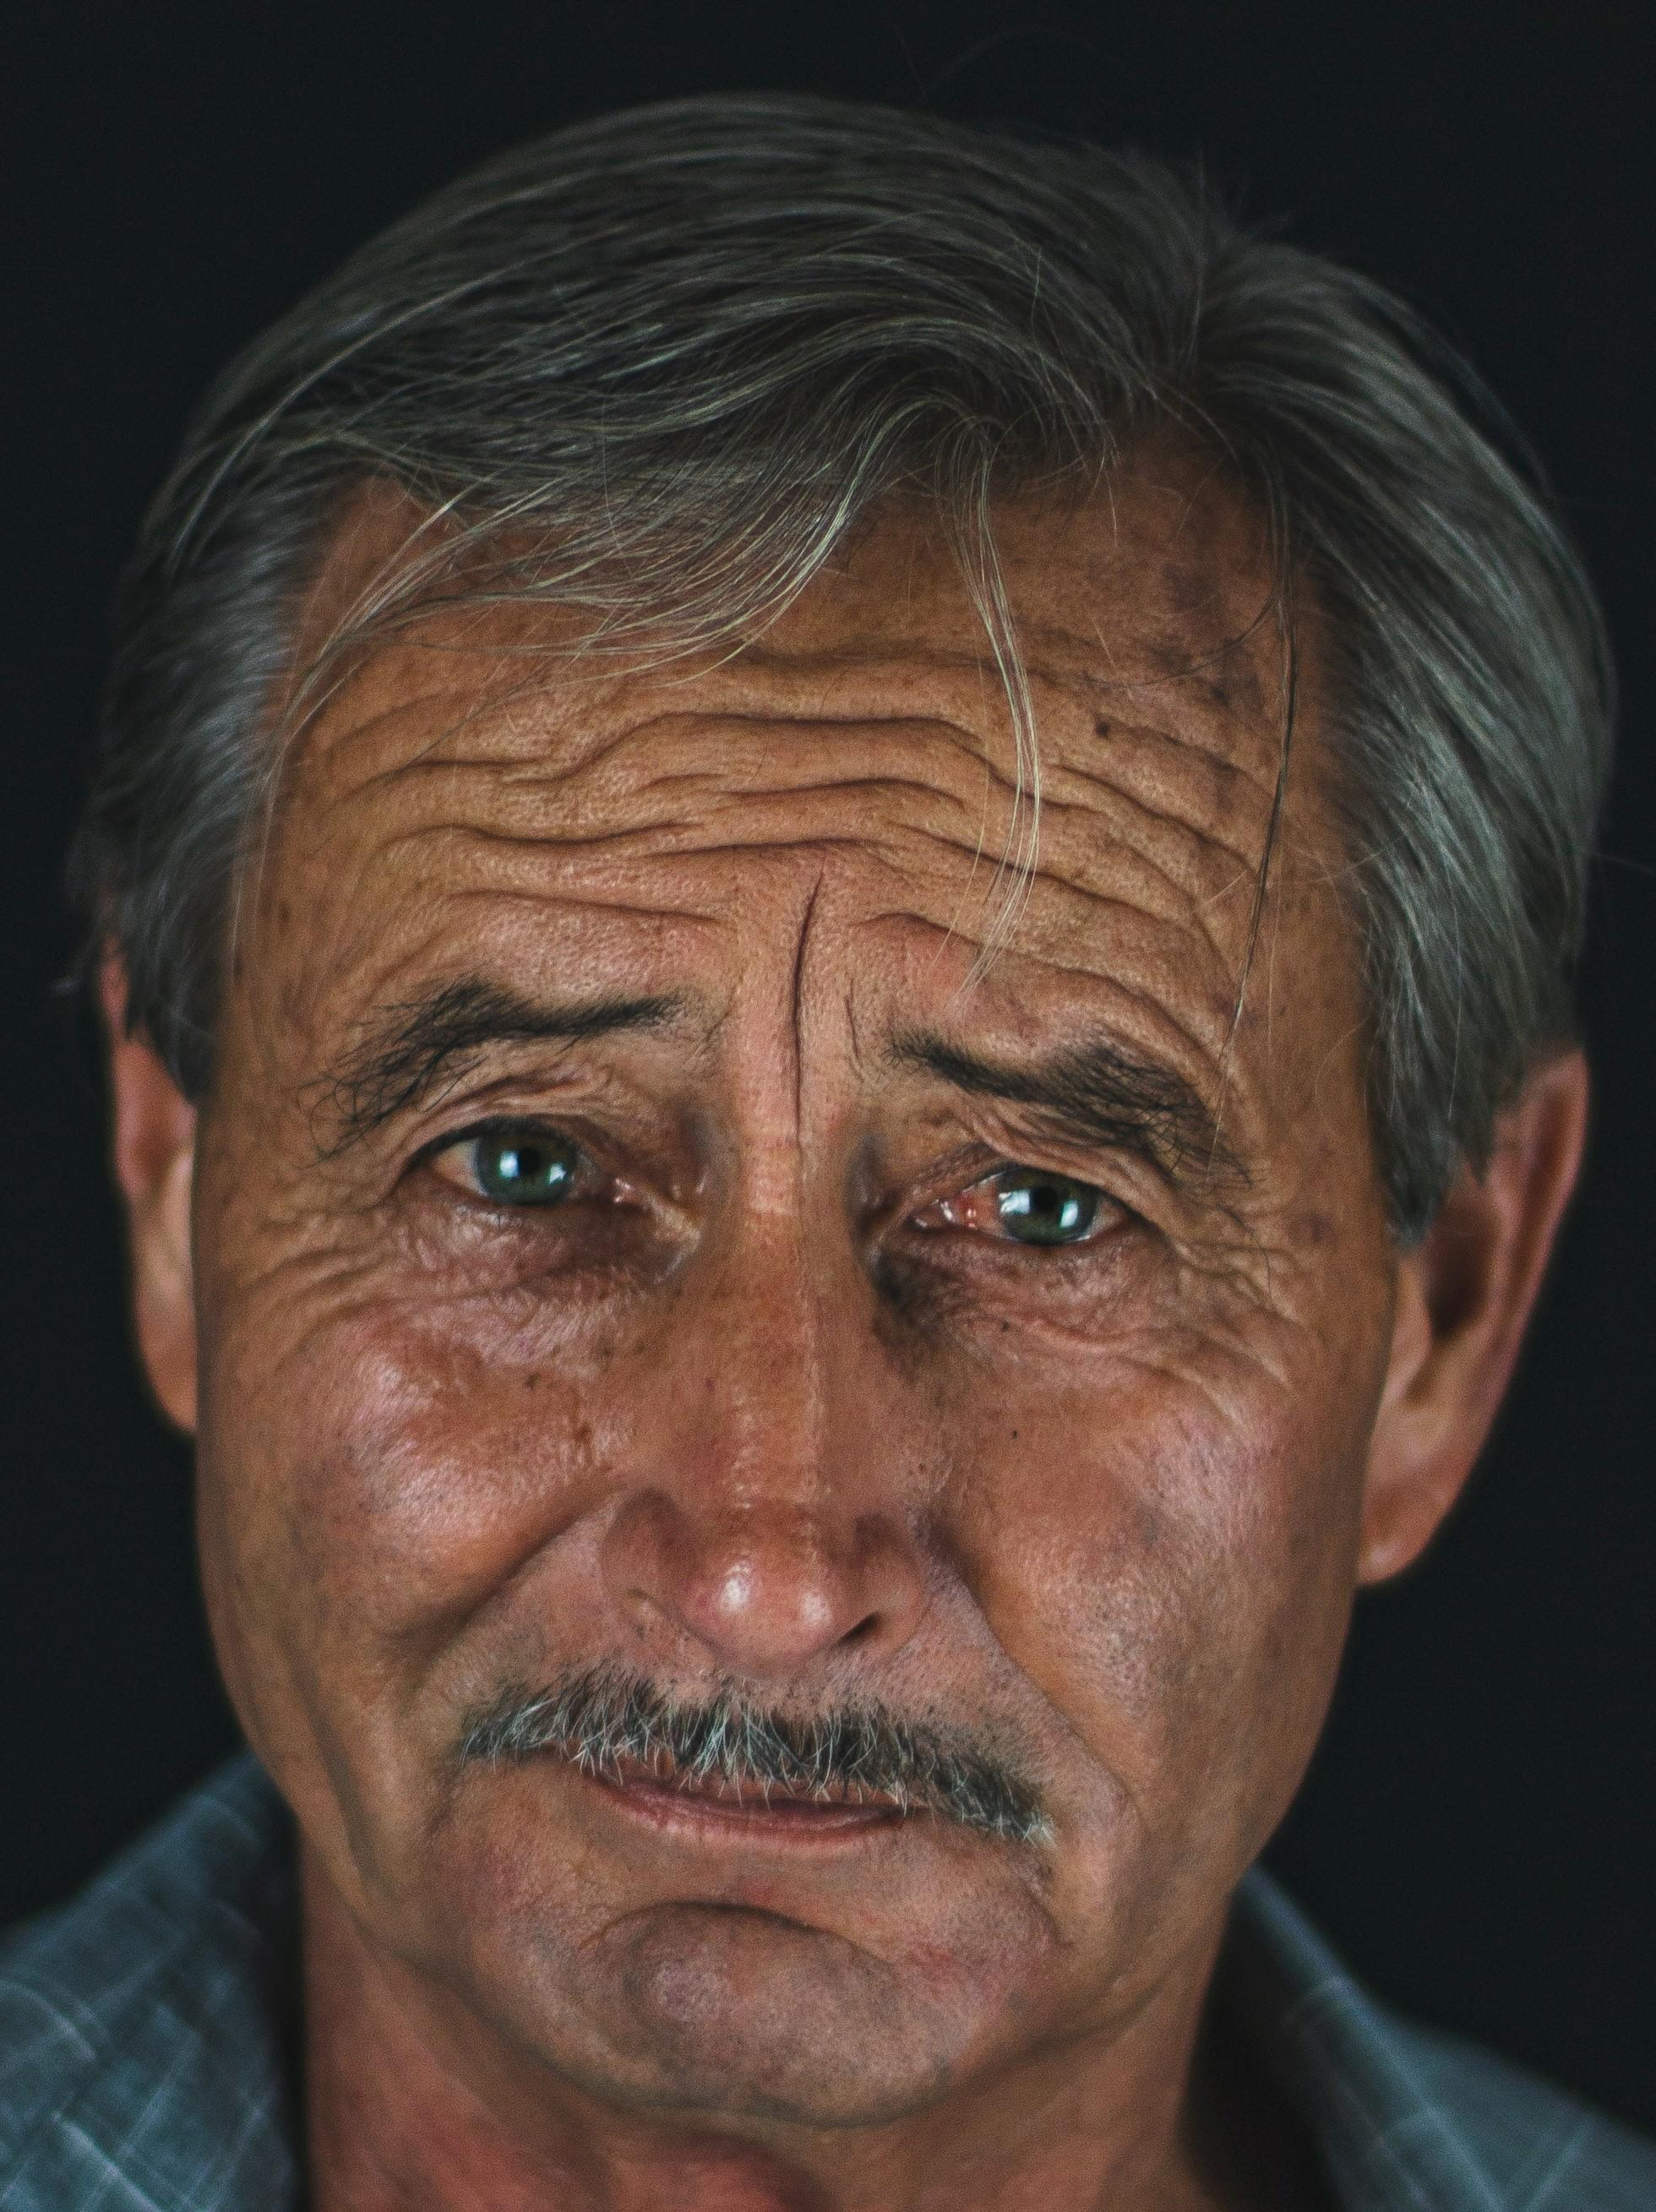Wrinkles: (513, 710, 978, 783), (891, 821, 1160, 925), (350, 823, 701, 903), (1059, 765, 1268, 897), (1112, 718, 1272, 795), (1132, 847, 1225, 962), (331, 758, 536, 809), (964, 750, 1101, 812), (793, 875, 823, 1163), (459, 889, 717, 922), (317, 692, 438, 753), (1143, 988, 1218, 1073), (1012, 949, 1139, 996), (631, 838, 905, 859), (718, 777, 962, 800), (856, 911, 976, 941), (637, 776, 724, 791), (847, 1000, 858, 1054)
